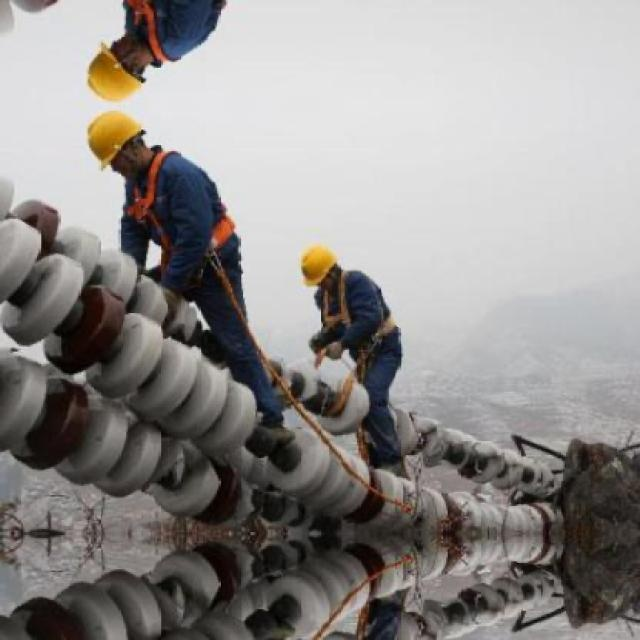Arnes_seguridad: (128, 147, 236, 274), (317, 266, 391, 346), (125, 0, 183, 65)
